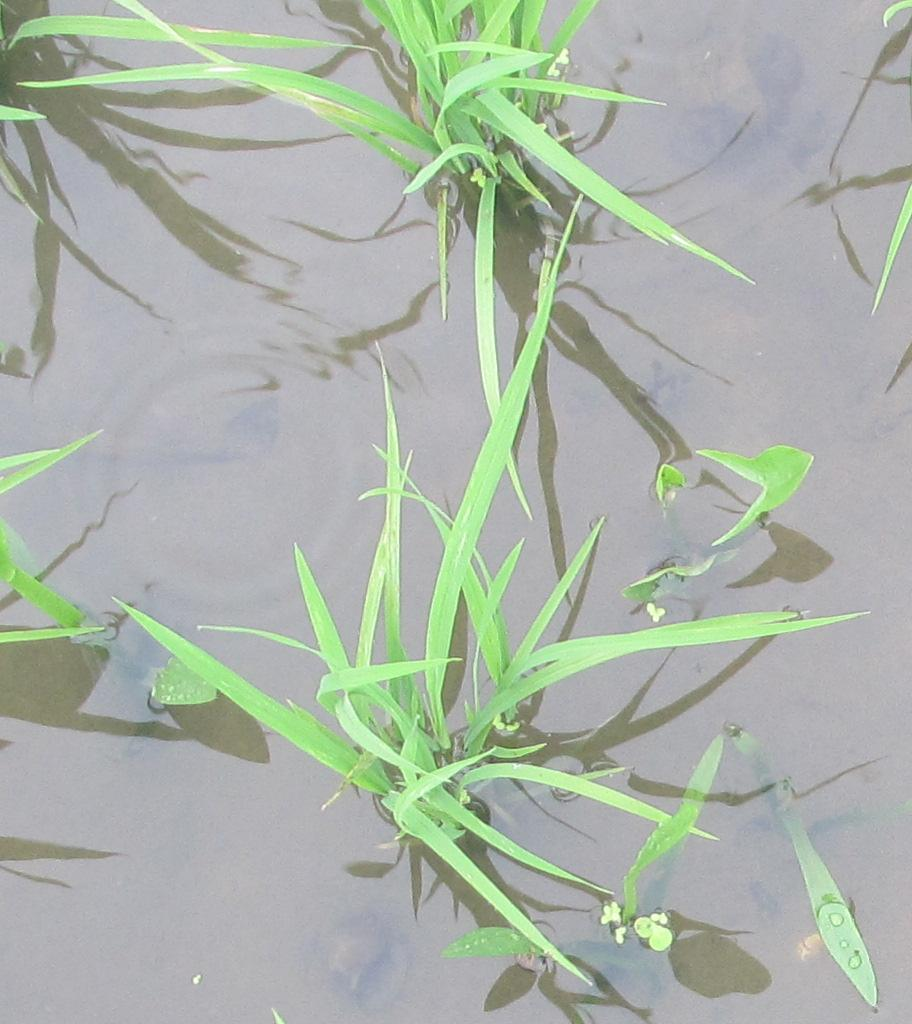Weed: (693, 433, 825, 538)
